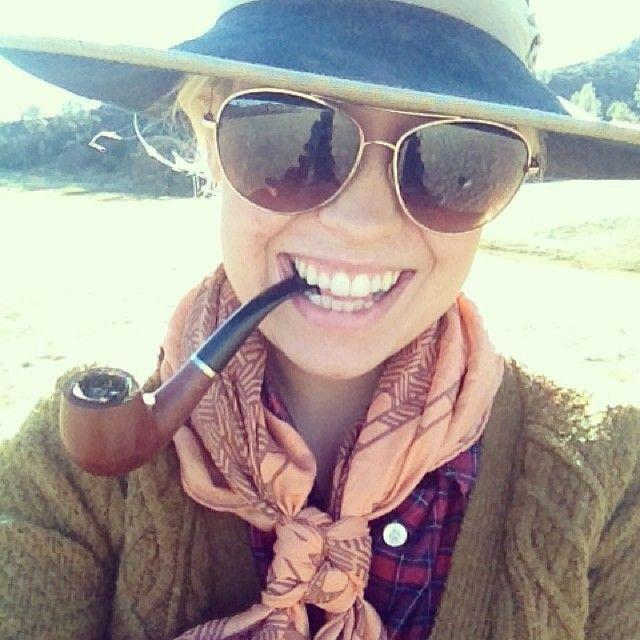trubka: (59, 276, 311, 477)
